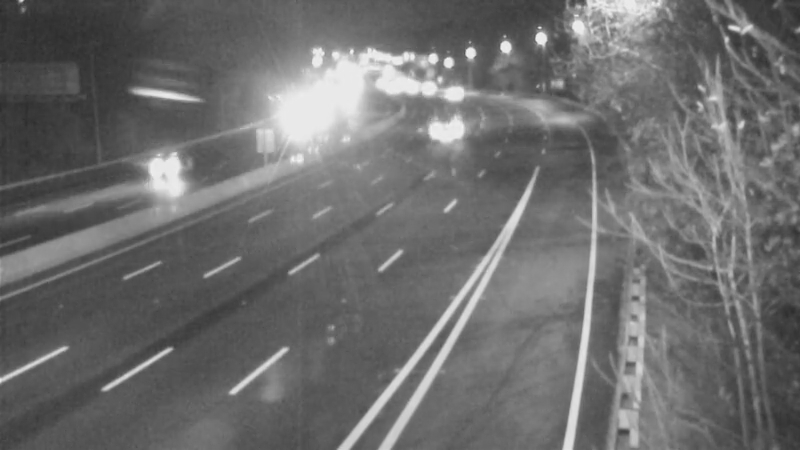vehicle: (128, 127, 208, 207), (421, 65, 471, 115), (423, 100, 473, 150)
